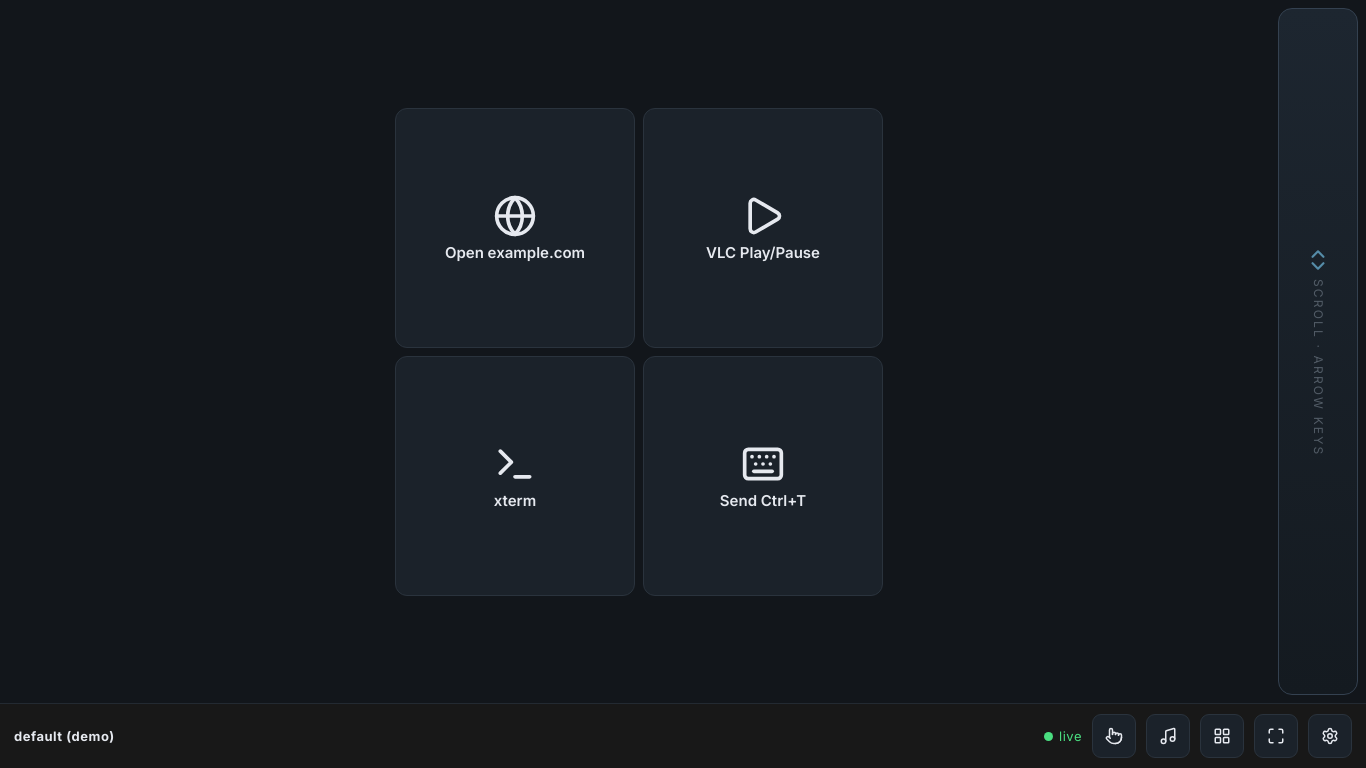
Test: App — running windows chrome view › renders the unsupported-on-platform empty state when no frame has arrived
Press the mouse on the button named "running programs" at (1222, 736), box top-left (1200, 714), bottom-right (1244, 758)
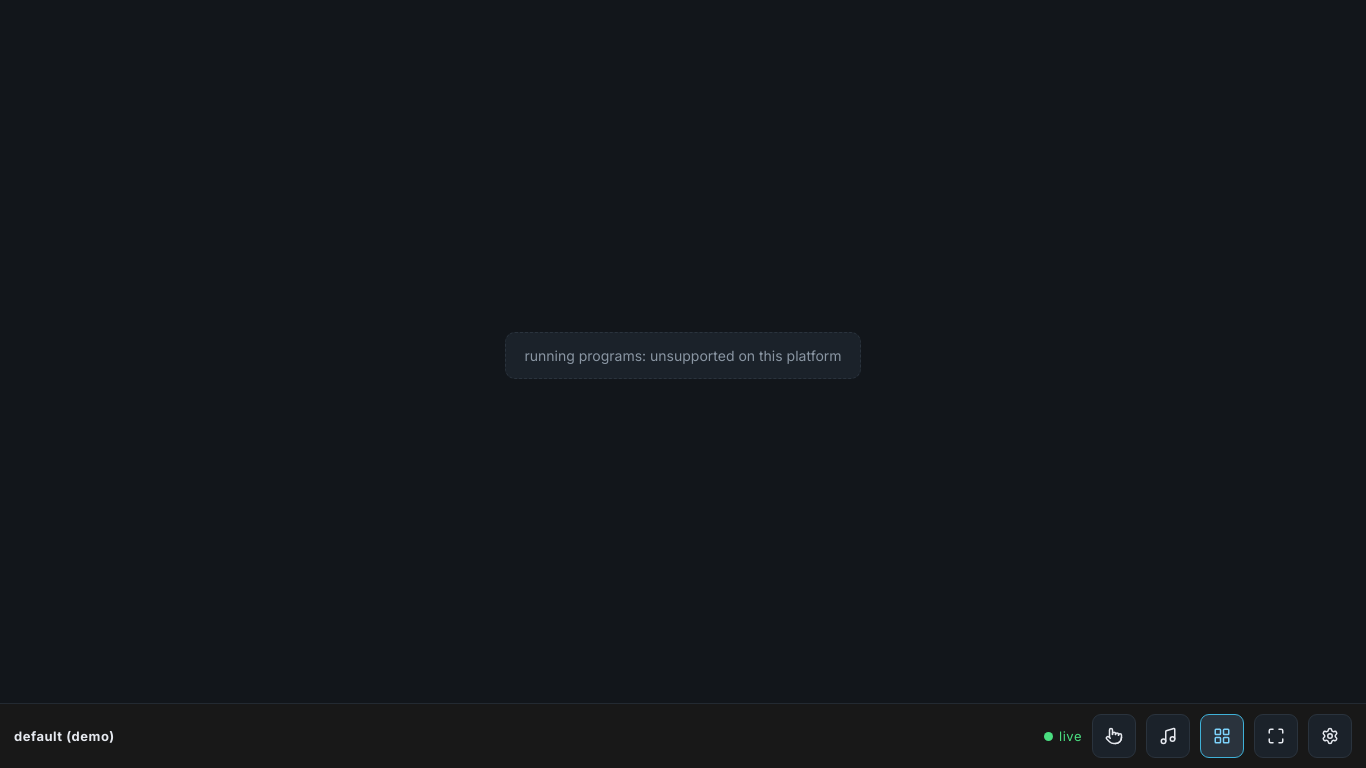
Expected: the text "running programs: unsupported on this platform" is shown, top-left (505, 332), bottom-right (861, 379)
